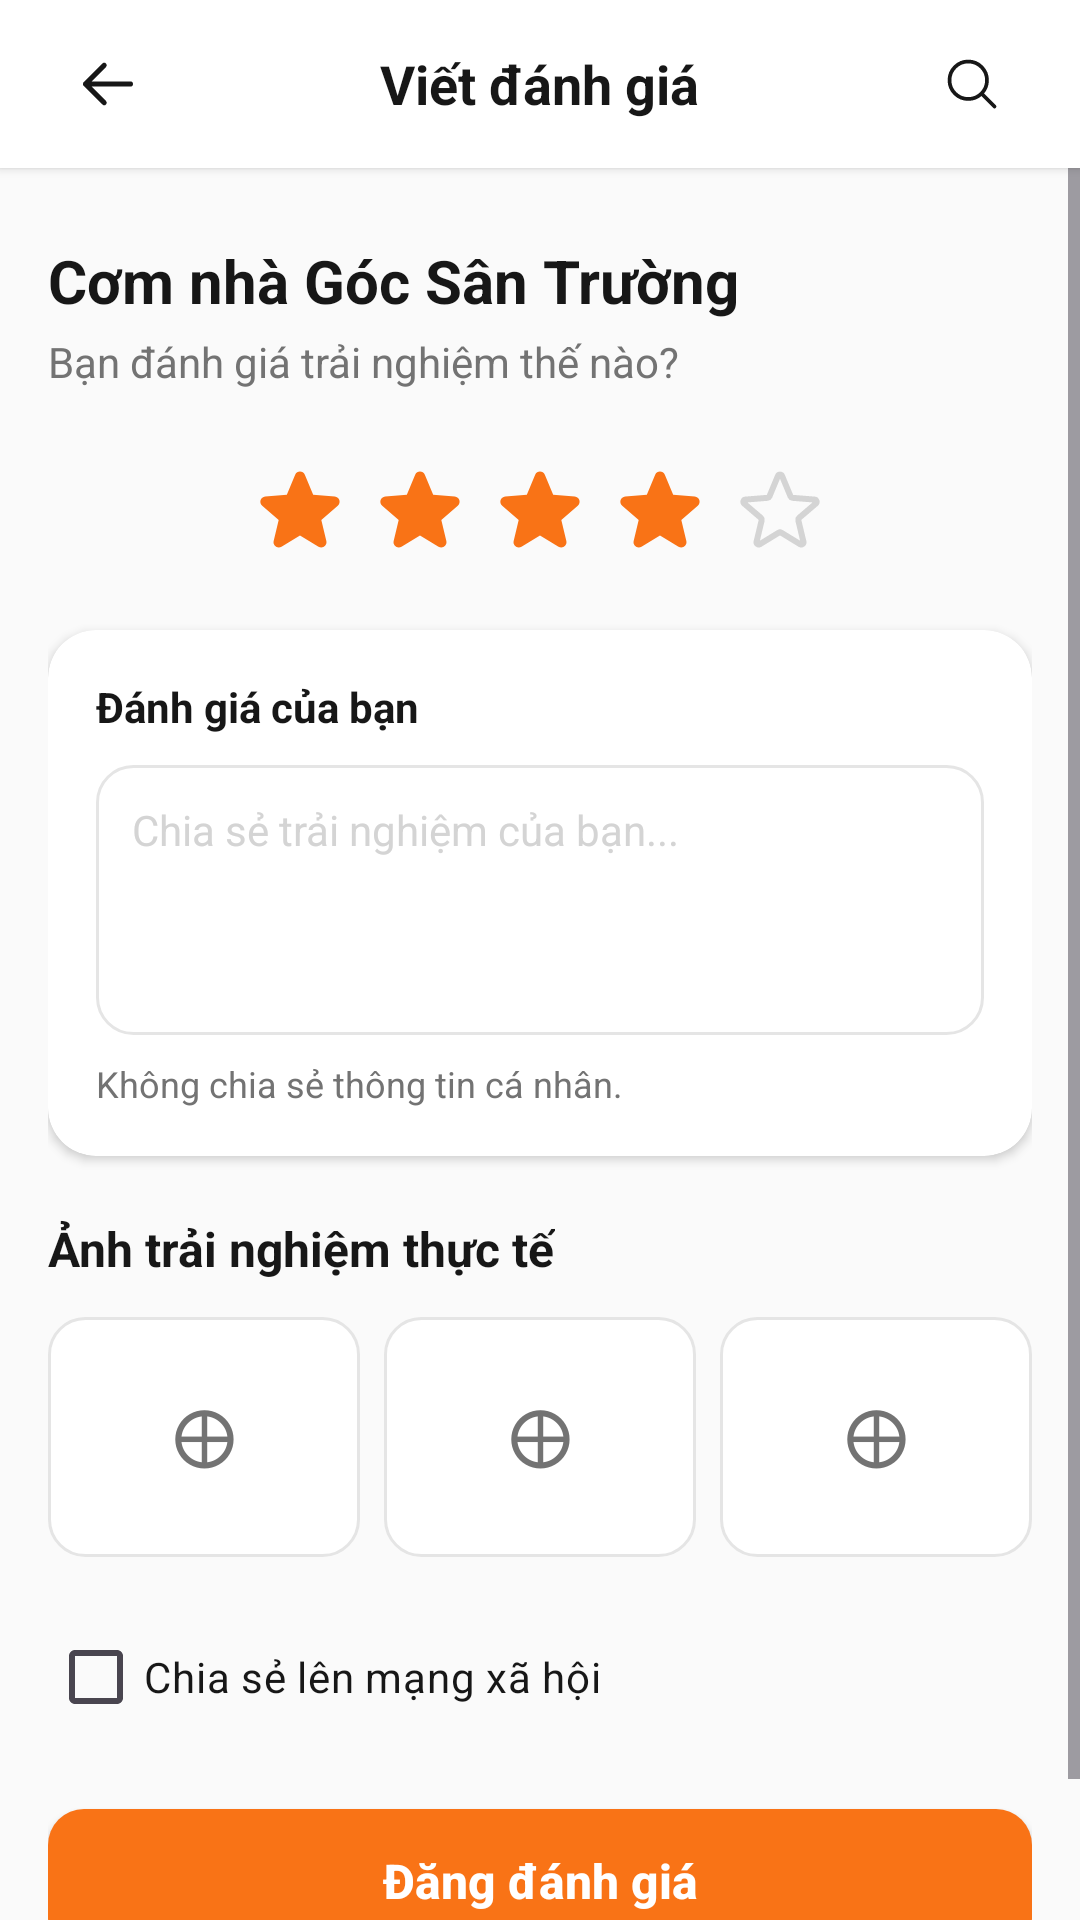

Screen size 1080 x 1920. Icon name, then its center in pixels as [x,y]:
arrow left: [108,84]
search: [972,84]
star: [300,509], [420,509], [540,509], [660,509], [780,509]
